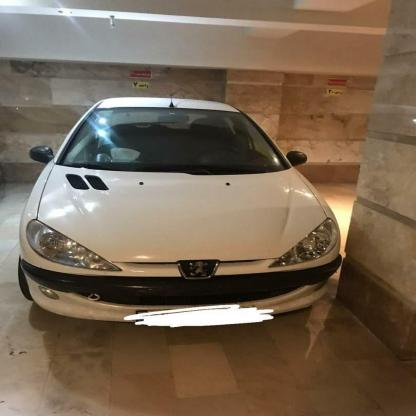Car: (23, 95, 353, 334)
